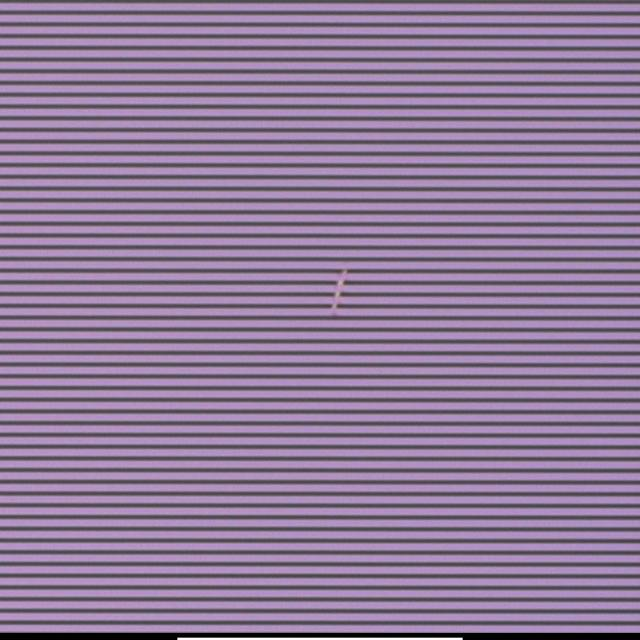03_intrusion: (328, 266, 352, 324)
